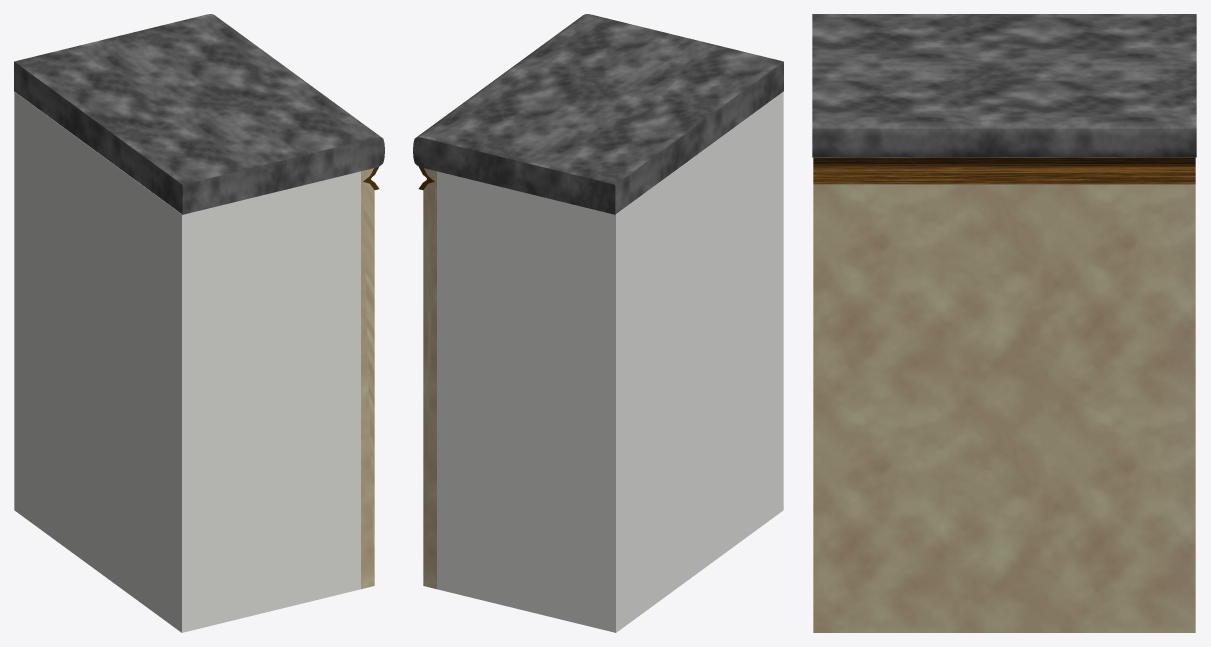
Rendered from KitchenCupboard-Floor.FBX.
3 renders of one model, left to right at view 1: azimuth 30°, elevation 25°; view 2: azimuth 150°, elevation 25°; view 3: azimuth 270°, elevation 25°, orthographic. The views are drawn at different scales.
Parts seen in each view (by area): view 1: Box001, Box002; view 2: Box001, Box002; view 3: Box001, Box002.
Part boxes in pixels (box(x1,y1,x2,y2)): Box001: box(14, 91, 379, 632); Box002: box(14, 14, 384, 214); Box001: box(418, 91, 783, 632); Box002: box(413, 14, 783, 214); Box001: box(813, 157, 1195, 632); Box002: box(812, 14, 1196, 157).
Size of the model in its own units: 21.61 by 45.71 by 31.13.
4 materials, 4 textured.
